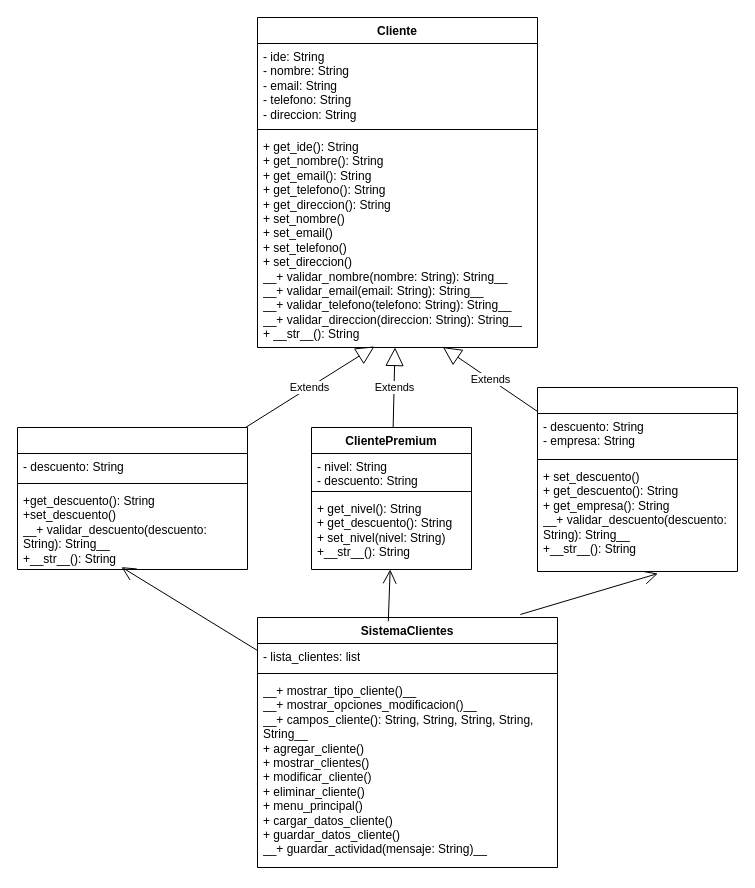
Image size: 755x888. Some labels were removed from this diagram. Each missing label, with the box of its shape:
ClienteCorporativo: (536, 386, 738, 572)
ClienteRegular: (16, 426, 248, 570)
